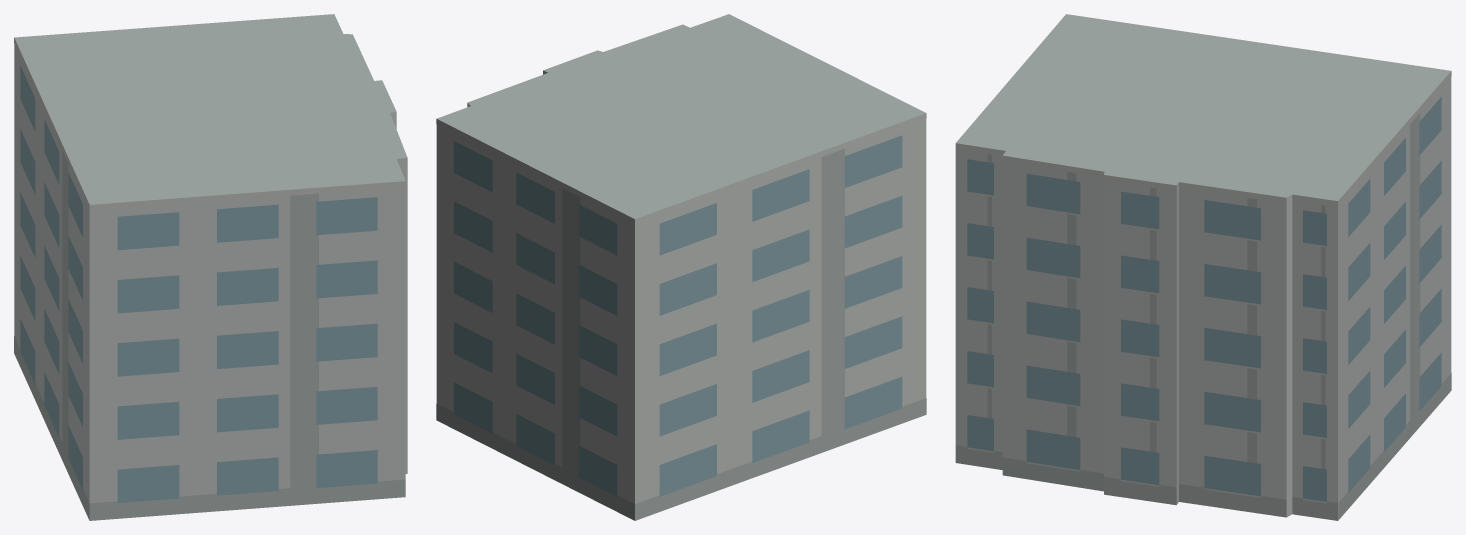
File: survey-upis-32885798.glb
The picture shows the model from 3 angles, left to right: view 1: azimuth 30°, elevation 25°; view 2: azimuth 150°, elevation 25°; view 3: azimuth 270°, elevation 25°; orthographic projection. The views are drawn at different scales.
Visible parts, largest first — view 1: survey-upis-32885798.tmp; view 2: survey-upis-32885798.tmp; view 3: survey-upis-32885798.tmp.
Boxes of the visible parts, x1=… form: survey-upis-32885798.tmp: x1=14, y1=14, x2=407, y2=520; survey-upis-32885798.tmp: x1=436, y1=14, x2=926, y2=520; survey-upis-32885798.tmp: x1=955, y1=14, x2=1451, y2=520.
Bounding box in the file's own units: 16.33 × 13 × 18.28.
